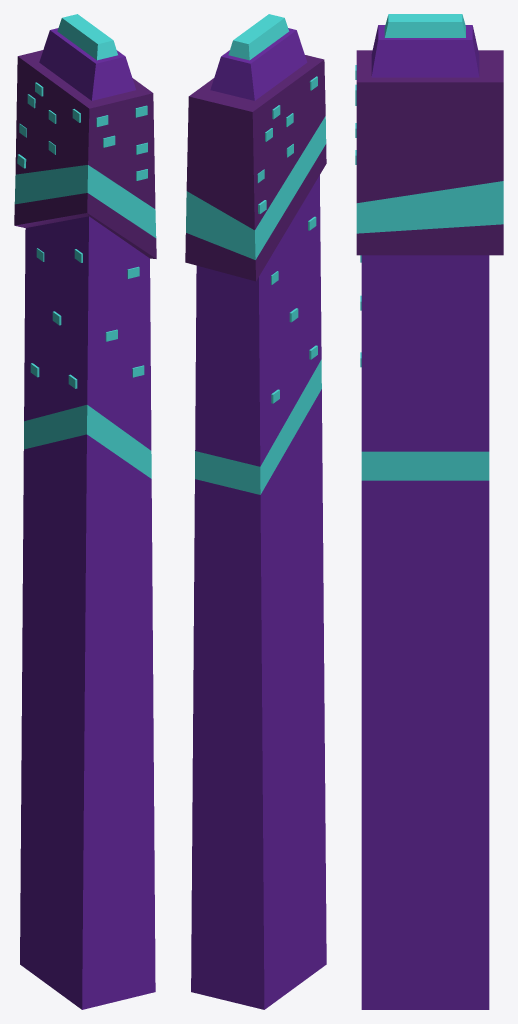
File: Build_sci_fi_5.fbx
The picture shows the model from 3 angles, left to right: view 1: azimuth 30°, elevation 25°; view 2: azimuth 150°, elevation 25°; view 3: azimuth 270°, elevation 25°; orthographic projection. The views are drawn at different scales.
Visible parts, largest first — view 1: Build_sci_fi_5; view 2: Build_sci_fi_5; view 3: Build_sci_fi_5.
Part boxes in pixels (box(x1,y1,x2,y2)): Build_sci_fi_5: box(14, 14, 156, 1009); Build_sci_fi_5: box(185, 14, 326, 1009); Build_sci_fi_5: box(355, 14, 503, 1009).
Bounding box in the file's own units: 76.77 × 948 × 131.
